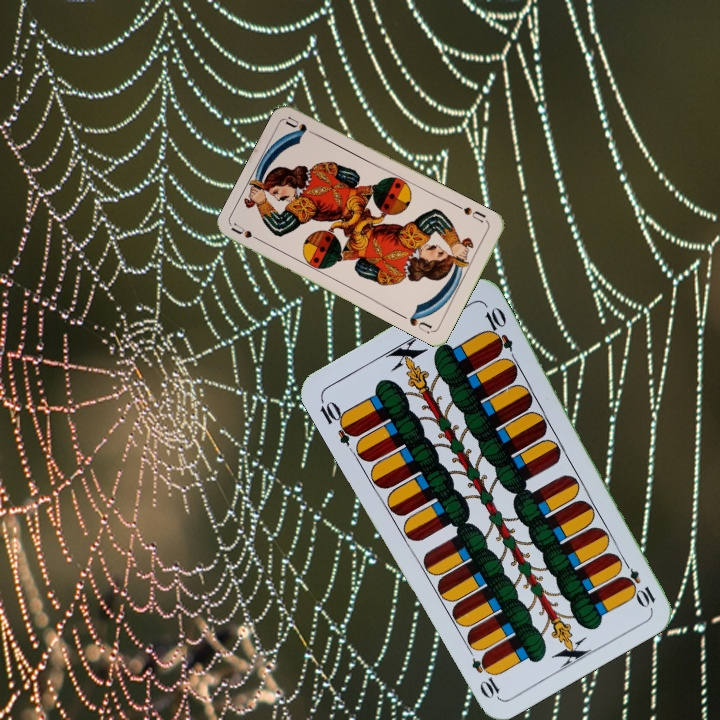E10: (316, 394, 360, 448), (617, 555, 658, 609)
SU: (228, 220, 267, 246), (453, 201, 491, 226)
